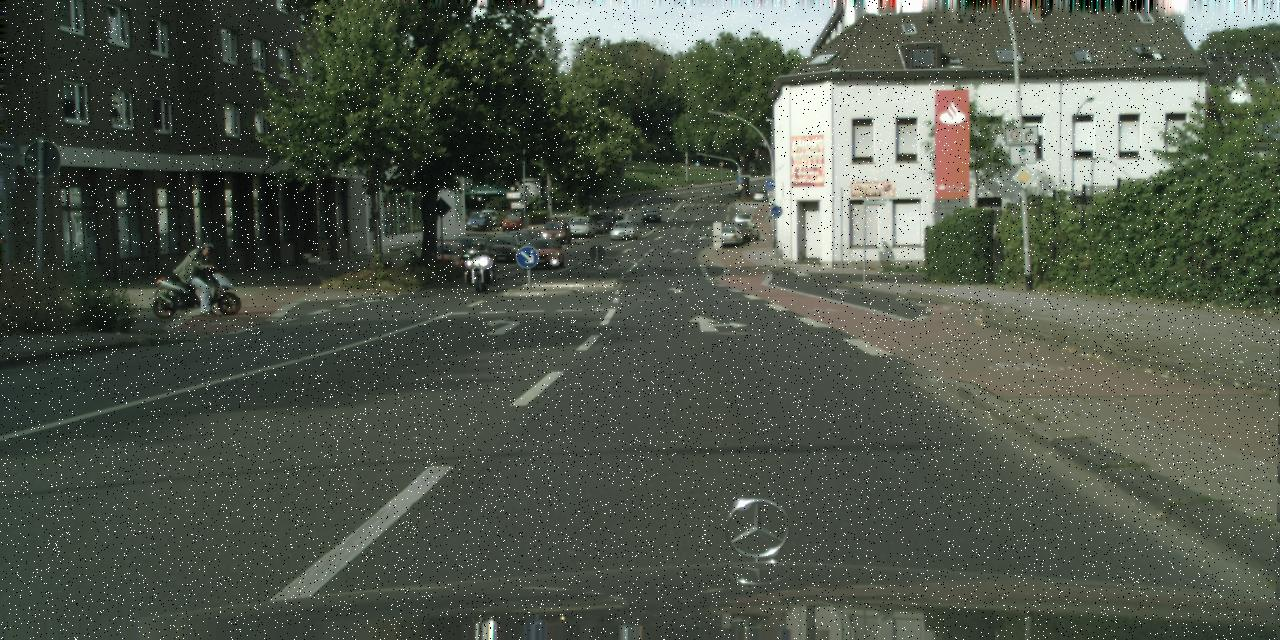ped: (193, 242, 223, 314), (470, 240, 487, 282), (615, 206, 623, 225)
